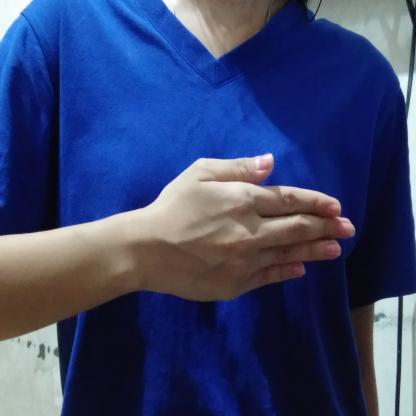ready: (108, 153, 358, 309)
